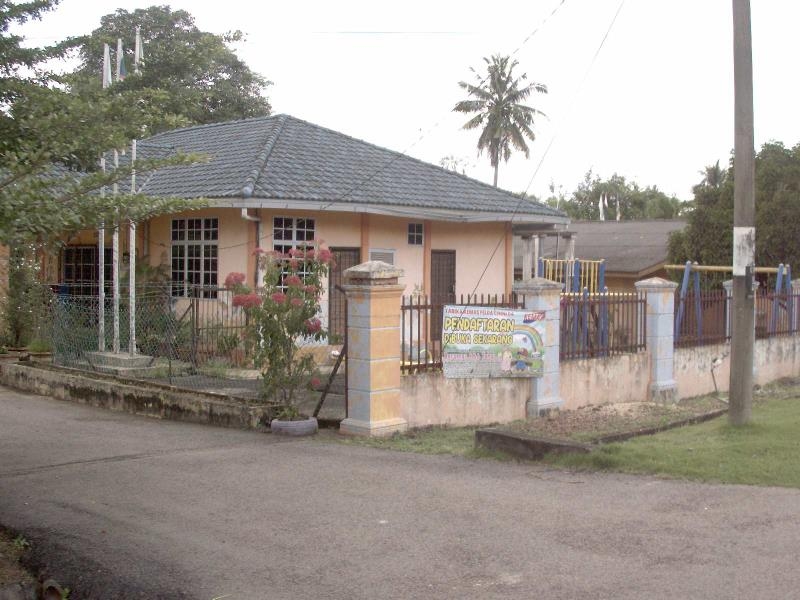ads_sign: (431, 294, 571, 389)
